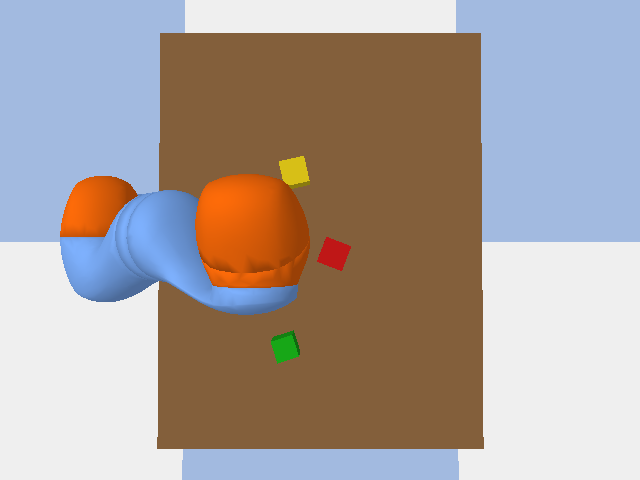green_obj: (271, 330, 299, 363)
red_obj: (317, 237, 350, 270)
yellow_obj: (279, 156, 309, 188)
